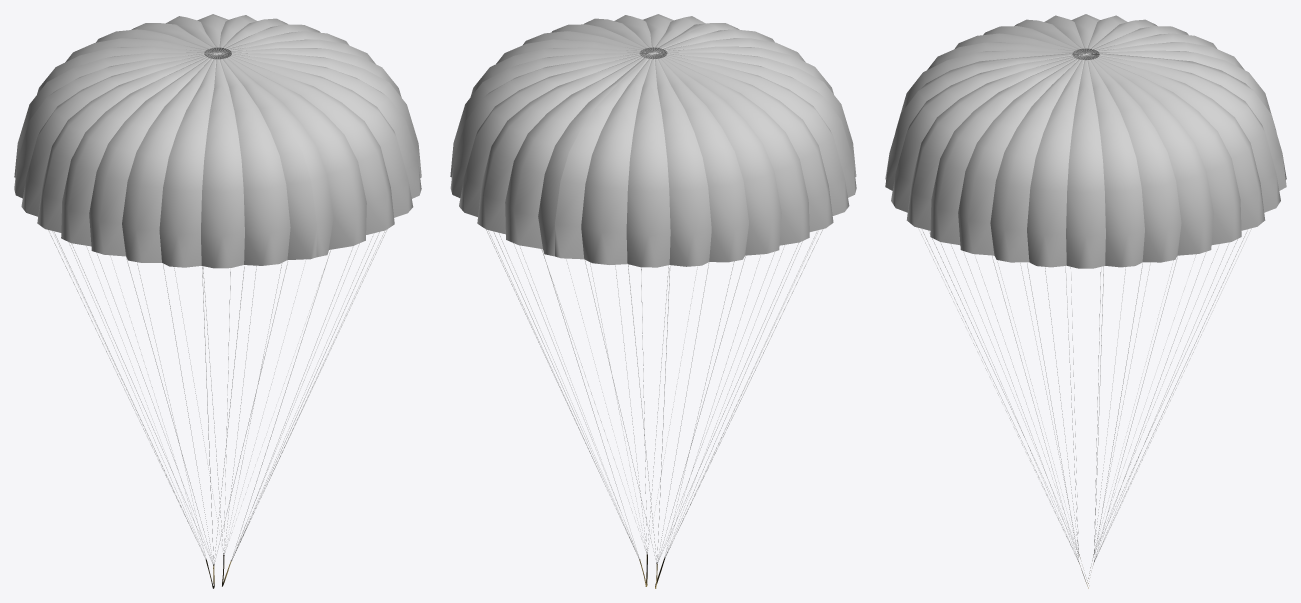
The model's file is Parachute_Canopy.fbx.
3 views of the same model, side by side, from view 1: azimuth 30°, elevation 25°; view 2: azimuth 150°, elevation 25°; view 3: azimuth 270°, elevation 25° (orthographic).
Parts seen in each view (by area): view 1: Chute; view 2: Chute; view 3: Chute.
Boxes of the visible parts, x1,y1,x2,y2 form: Chute: (14,14,421,588); Chute: (450,14,856,588); Chute: (885,14,1286,588).
Size of what is drawn, in the model's own units: 973 by 1408 by 964.
